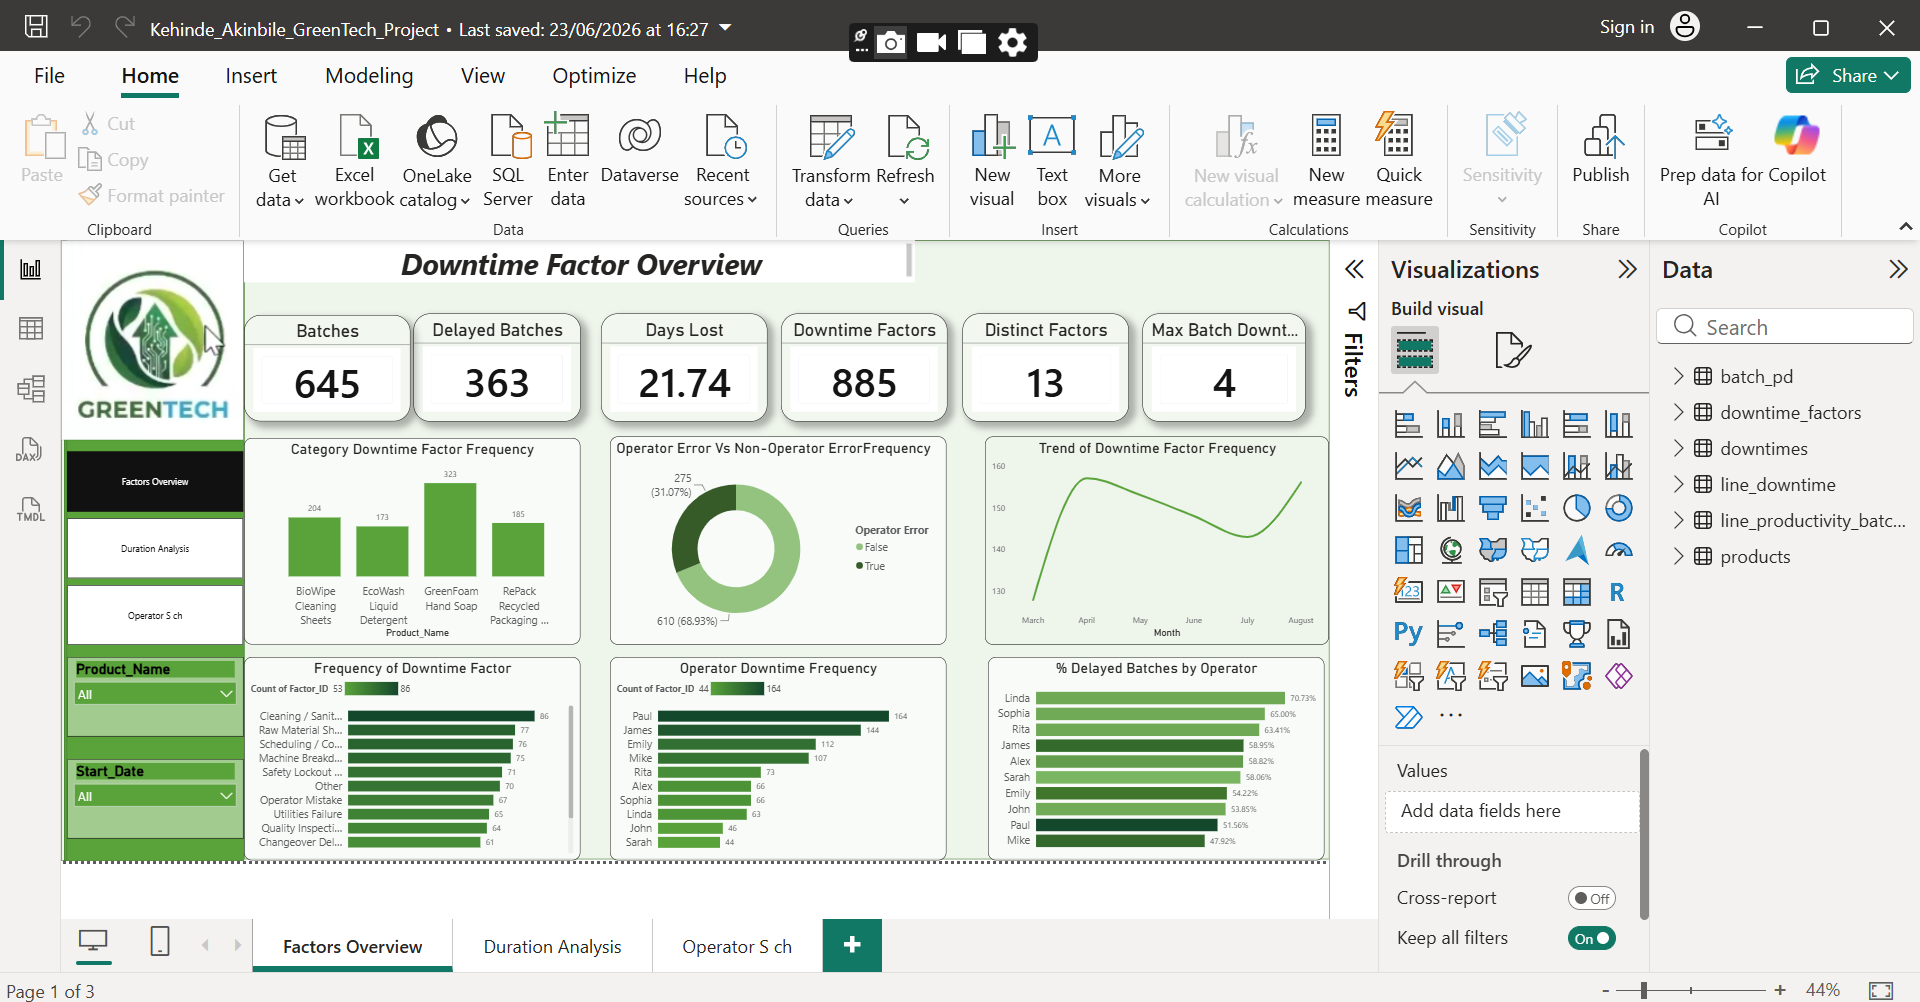

The page's visual inventory and layout, read from the dashboard file:
{"tool":"powerbi","page":{"name":"Factors Overview","canvas":[1900,930],"ordinal":0},"visuals":[{"type":"shape","box":[274.2,0,1626.6,928.1],"z":0},{"type":"shape","box":[4.7,2.3,269.5,928.1],"z":1000},{"type":"shape","box":[0,0,9.4,930.5],"z":2000},{"type":"textbox","box":[274.2,0,1005.5,63.3],"z":3000},{"type":"cardVisual","title":"Batches","fields":{"Data":["CountNonNull(batch_pd.Batch_ID)"]},"box":[274.2,112.4,249.5,159.6],"z":4000},{"type":"cardVisual","title":"Delayed Batches","fields":{"Data":["Count(downtimes.Batch_ID)"]},"box":[527.4,110.2,250.8,161.7],"z":5000},{"type":"cardVisual","title":"Days Lost","fields":{"Data":["Sum(downtimes.Days)"]},"box":[809.2,110.1,249.5,161.8],"z":6000},{"type":"cardVisual","title":"Downtime Factors","fields":{"Data":["CountNonNull(downtimes.Factor_ID)"]},"box":[1078.9,110.1,249.5,161.8],"z":7000},{"type":"cardVisual","title":"Distinct Factors","fields":{"Data":["Count(downtimes.Factor_ID)"]},"box":[1350.8,110.1,249.5,161.8],"z":8000},{"type":"cardVisual","title":"Max Batch Downtimes","fields":{"Data":["downtimes.Max Downtime Per Batch"]},"box":[1620.6,110.1,245,161.8],"z":9000},{"type":"columnChart","title":"Category Downtime Factor Frequency","fields":{"Y":["CountNonNull(downtimes.Factor_ID)"],"Category":["products.Category Hierarchy.Category","products.Category Hierarchy.Product_Name"]},"box":[274.2,297.7,503.9,309.4],"z":10000},{"type":"donutChart","title":"Operator Error Vs Non-Operator ErrorFrequency","fields":{"Category":["downtime_factors.Operator_Error"],"Y":["CountNonNull(downtimes.Factor_ID)"]},"box":[822.7,295.3,503.9,311.7],"z":11000},{"type":"lineChart","title":"Trend of Downtime Factor Frequency","fields":{"Category":["batch_pd.Start_Date.Variation.Date Hierarchy.Year","batch_pd.Start_Date.Variation.Date Hierarchy.Quarter","batch_pd.Start_Date.Variation.Date Hierarchy.Month","batch_pd.Start_Date.Variation.Date Hierarchy.Day"],"Y":["CountNonNull(downtimes.Factor_ID)"]},"box":[1385.2,295.3,515.6,311.7],"z":12000},{"type":"clusteredBarChart","title":"Frequency of Downtime Factor","fields":{"Y":["CountNonNull(downtimes.Factor_ID)"],"Category":["downtime_factors.Factor_Name"]},"box":[274.2,625.8,503.9,304.7],"z":13000},{"type":"clusteredBarChart","title":"Operator Downtime Frequency","fields":{"Y":["CountNonNull(downtimes.Factor_ID)"],"Category":["batch_pd.Operator"]},"box":[822.7,625.8,503.9,304.7],"z":14000},{"type":"clusteredBarChart","title":"% Delayed Batches by Operator","fields":{"Category":["batch_pd.Operator"],"Y":["downtimes.Delayed Batches"]},"box":[1389.9,625.8,503.9,304.7],"z":15000},{"type":"slicer","fields":{"Values":["products.Product_Name"]},"box":[9.4,625.8,264.8,119.5],"z":16000},{"type":"slicer","fields":{"Values":["batch_pd.Start_Date"]},"box":[9.4,778.1,264.8,119.5],"z":17000},{"type":"image","box":[0,0,274.2,300],"z":18000},{"type":"pageNavigator","box":[9.4,316.4,264.8,290.6],"z":19000}]}

Visuals, with their boxes on the page's 1900x930 design canvas (x1, y1, x2, y2). These are canvas units, not pixel positions in the 1920x1002 screenshot, which may show the page scaled, cropped or inside an application window:
shape: bbox=[274, 0, 1901, 928]
shape: bbox=[5, 2, 274, 930]
shape: bbox=[0, 0, 9, 930]
textbox: bbox=[274, 0, 1280, 63]
"Batches" cardVisual: bbox=[274, 112, 524, 272]
"Delayed Batches" cardVisual: bbox=[527, 110, 778, 272]
"Days Lost" cardVisual: bbox=[809, 110, 1059, 272]
"Downtime Factors" cardVisual: bbox=[1079, 110, 1328, 272]
"Distinct Factors" cardVisual: bbox=[1351, 110, 1600, 272]
"Max Batch Downtimes" cardVisual: bbox=[1621, 110, 1866, 272]
"Category Downtime Factor Frequency" columnChart: bbox=[274, 298, 778, 607]
"Operator Error Vs Non-Operator ErrorFrequency" donutChart: bbox=[823, 295, 1327, 607]
"Trend of Downtime Factor Frequency" lineChart: bbox=[1385, 295, 1901, 607]
"Frequency of Downtime Factor" clusteredBarChart: bbox=[274, 626, 778, 930]
"Operator Downtime Frequency" clusteredBarChart: bbox=[823, 626, 1327, 930]
"% Delayed Batches by Operator" clusteredBarChart: bbox=[1390, 626, 1894, 930]
slicer - products.Product_Name: bbox=[9, 626, 274, 745]
slicer - batch_pd.Start_Date: bbox=[9, 778, 274, 898]
image: bbox=[0, 0, 274, 300]
pageNavigator: bbox=[9, 316, 274, 607]
